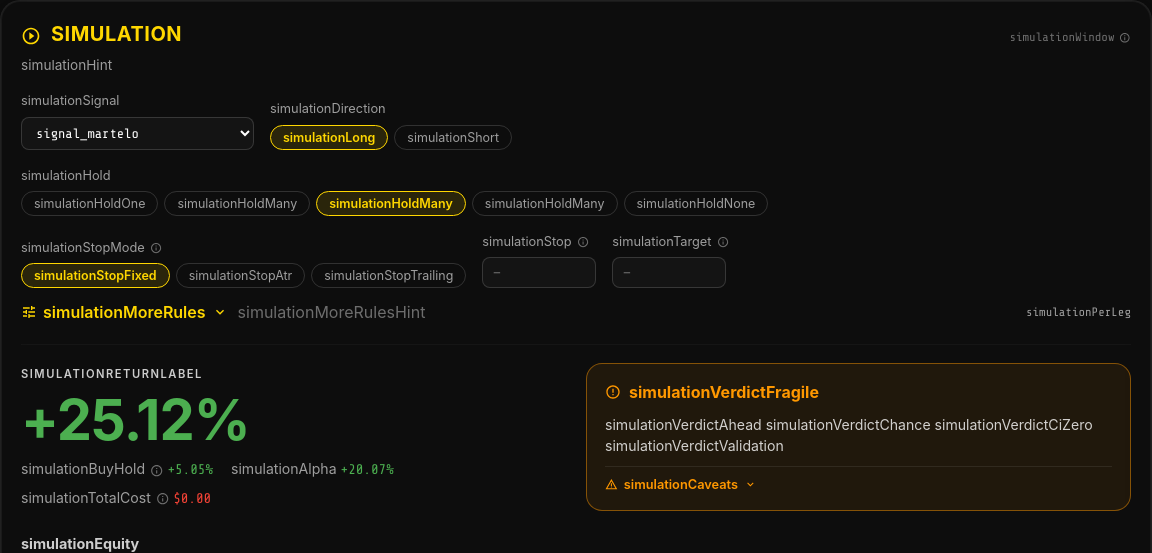
Test: SimulationPanel › o que abre com um clique › deve abrir as regras avançadas
This screenshot has width=1152, height=553.
Click the button "simulationMoreRules simulationMoreRulesHint simulationPerLeg" at (124, 312), box [21,300,1131,324]
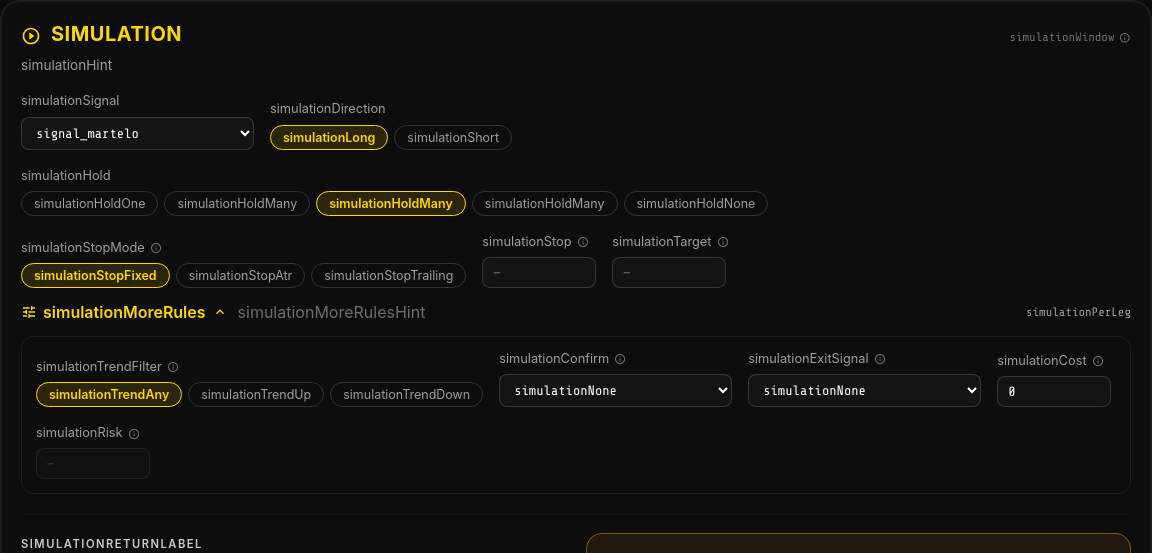
Result: the text "simulationConfirm" is shown at [499,349,626,368]
Result: the text "simulationRisk" is shown at [36,423,140,442]
